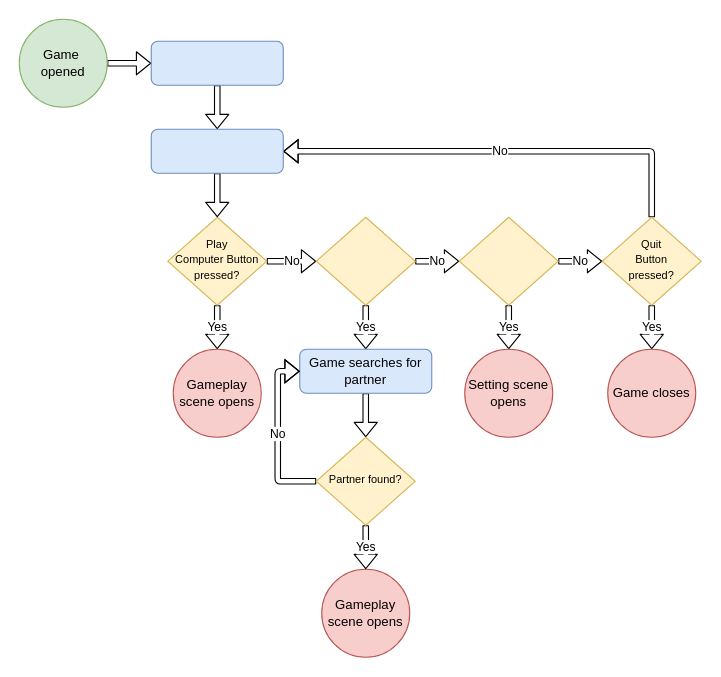
Some shapes in this 721 by 677 pixel diagram are drawn without their labels. Each missing label, with the centre of its shape:
"Home scene loads" belongs at (216,62).
"Play Online Button pressed?" belongs at (365,260).
"Settings Button pressed?" belongs at (508,260).
"Wait for player input" belongs at (216,150).
